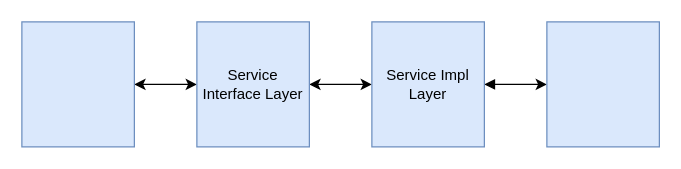
This 681x169 diagram has some shape labels left out. Here are the shapes that lost their labels. From the top down, the centre of each, then its label:
At (x=77, y=84): "Controller".
At (x=602, y=84): "Executable service".
